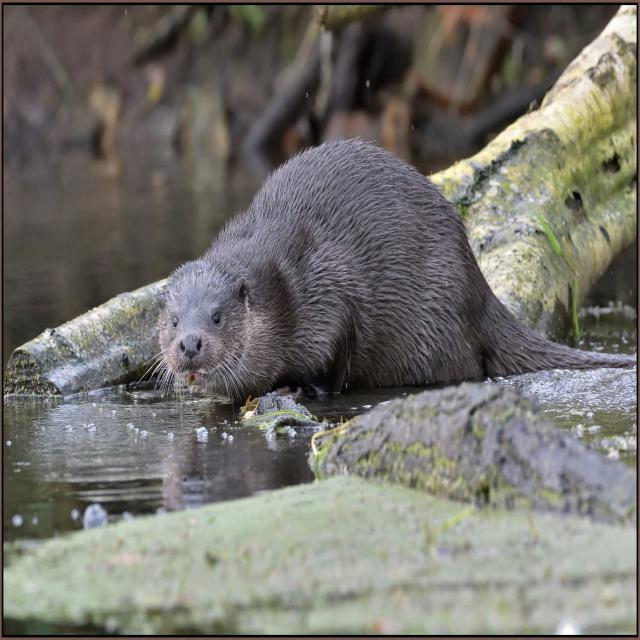otter: (161, 139, 504, 391)
